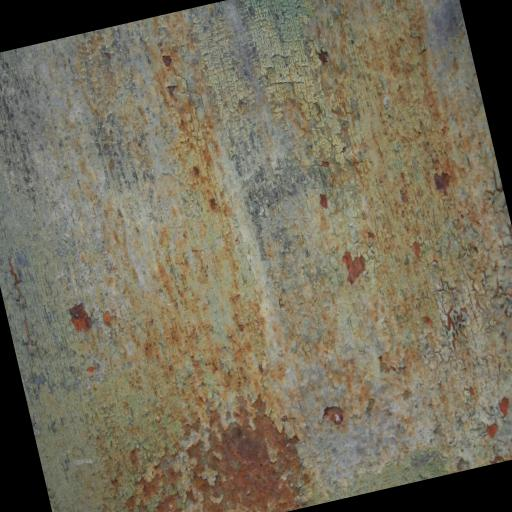segmentation: (0, 0, 512, 512), (125, 398, 310, 512), (343, 252, 365, 284), (69, 304, 92, 332), (434, 171, 450, 195), (323, 406, 343, 425), (499, 397, 509, 416), (486, 424, 498, 437), (318, 51, 328, 66), (423, 316, 433, 328), (447, 313, 454, 330), (320, 194, 328, 208), (162, 55, 172, 66), (167, 85, 176, 96)
